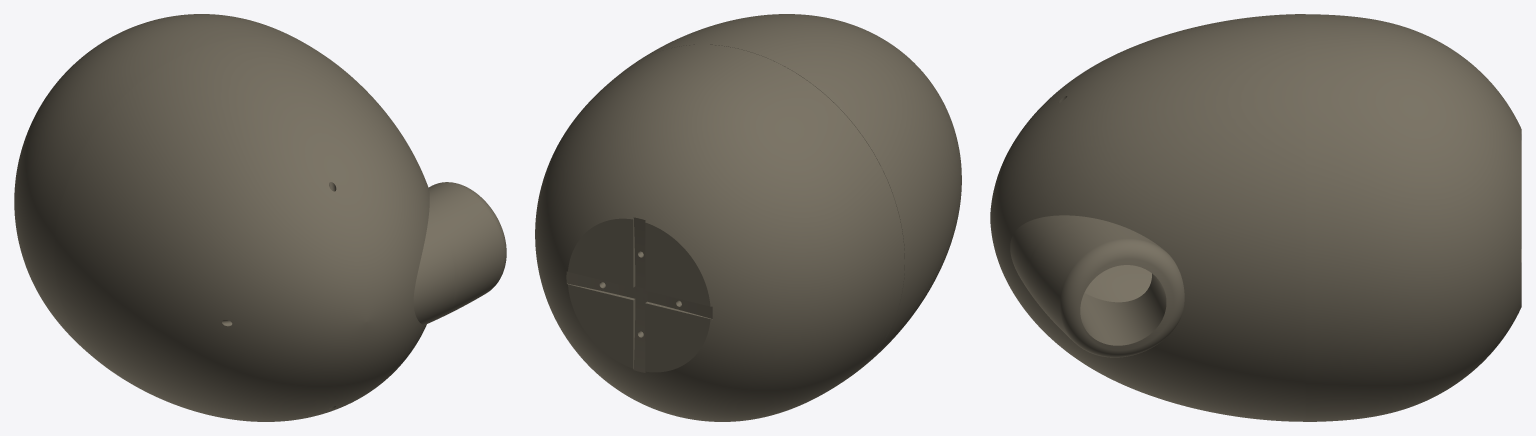
Rendered from nestegg-softened-v1.glb.
The picture shows the model from 3 angles, left to right: view 1: azimuth 30°, elevation 25°; view 2: azimuth 150°, elevation 25°; view 3: azimuth 270°, elevation 25°; orthographic projection. The views are drawn at different scales.
Visible parts, largest first — view 1: Asset3DLoadersceneRoot; view 2: Asset3DLoadersceneRoot; view 3: Asset3DLoadersceneRoot.
Part boxes in pixels (<box>): Asset3DLoadersceneRoot: <box>14,14,506,421</box>; Asset3DLoadersceneRoot: <box>535,14,961,421</box>; Asset3DLoadersceneRoot: <box>990,14,1521,421</box>.
Size of the model in its own units: 7.19 by 6.91 by 9.01.
